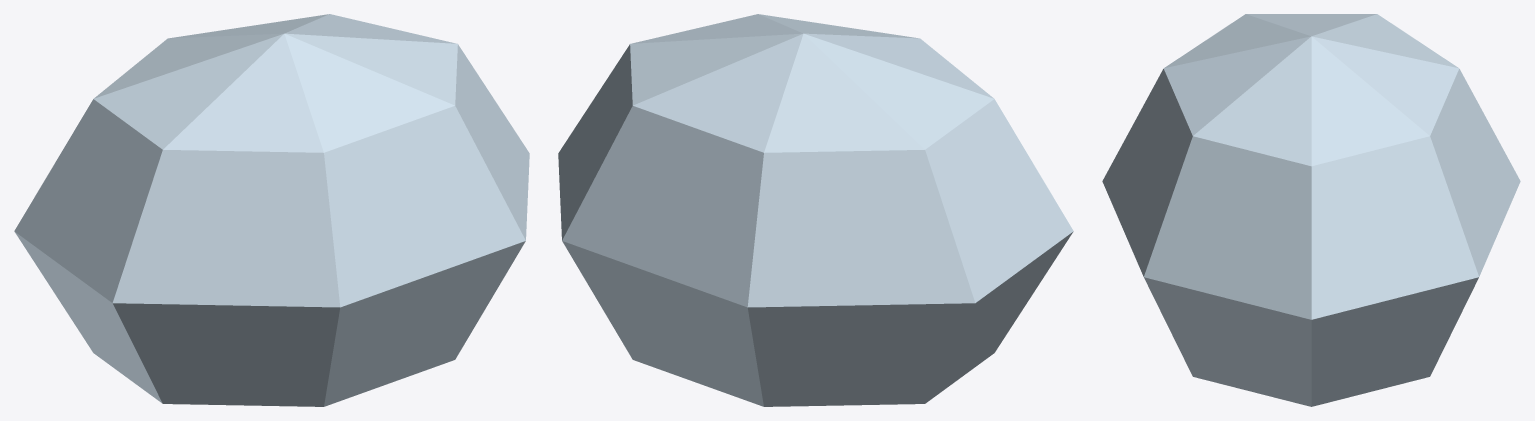
Rendered from snow_rock.glb.
3 views of the same model, side by side, from view 1: azimuth 30°, elevation 25°; view 2: azimuth 150°, elevation 25°; view 3: azimuth 270°, elevation 25° (orthographic). The views are drawn at different scales.
Parts seen in each view (by area): view 1: rock; view 2: rock; view 3: rock.
Part boxes in pixels (<box>): rock: <box>14,14,529,406</box>; rock: <box>558,14,1073,406</box>; rock: <box>1102,14,1520,406</box>.
Bounding box in the file's own units: 1.9 × 1.4 × 1.56.
